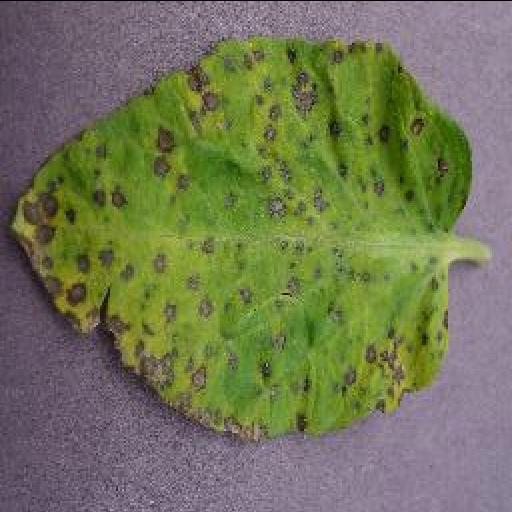disease_tomato: (8, 36, 472, 437)
